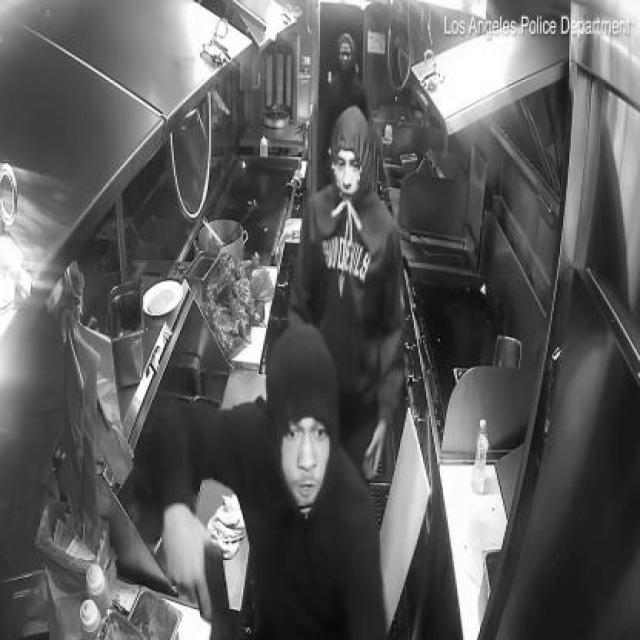weapon: (193, 547, 238, 639)
